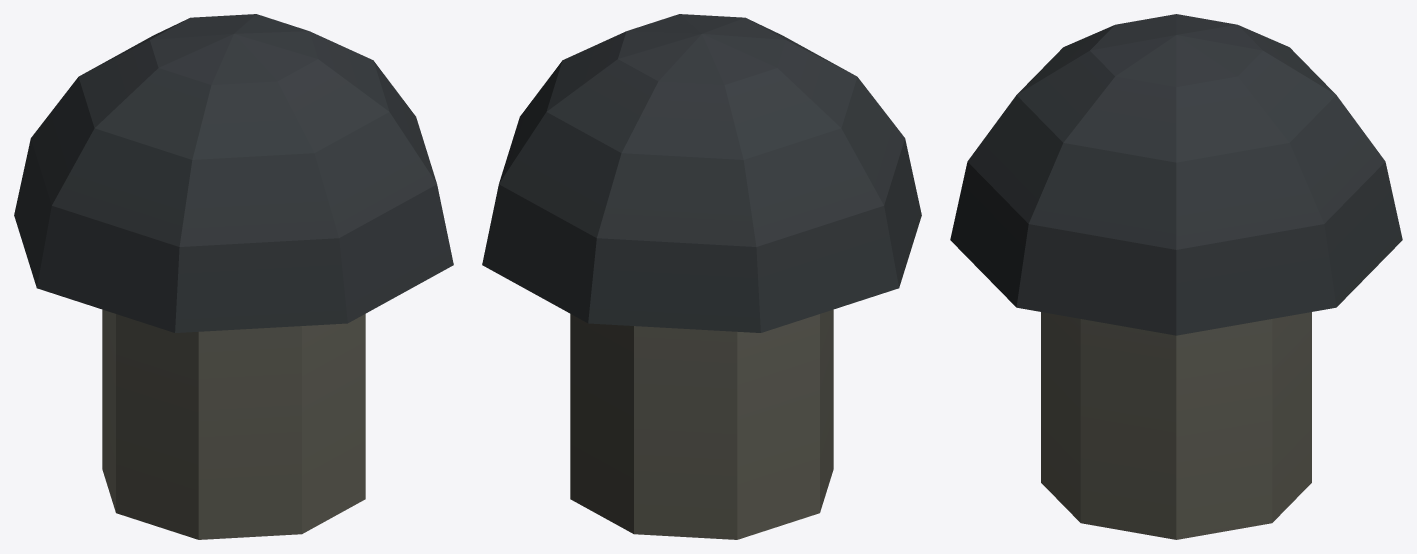
The model's file is HousePart_06.fbx.
3 renders of one model, left to right at view 1: azimuth 30°, elevation 25°; view 2: azimuth 150°, elevation 25°; view 3: azimuth 270°, elevation 25°, orthographic.
Visible parts, largest first — view 1: HousePart_06; view 2: HousePart_06; view 3: HousePart_06.
Part boxes in pixels (<box>): HousePart_06: <box>14,14,453,539</box>; HousePart_06: <box>482,14,921,539</box>; HousePart_06: <box>950,14,1402,539</box>.
Bounding box in the file's own units: 0.3042 × 0.3321 × 0.3042.
